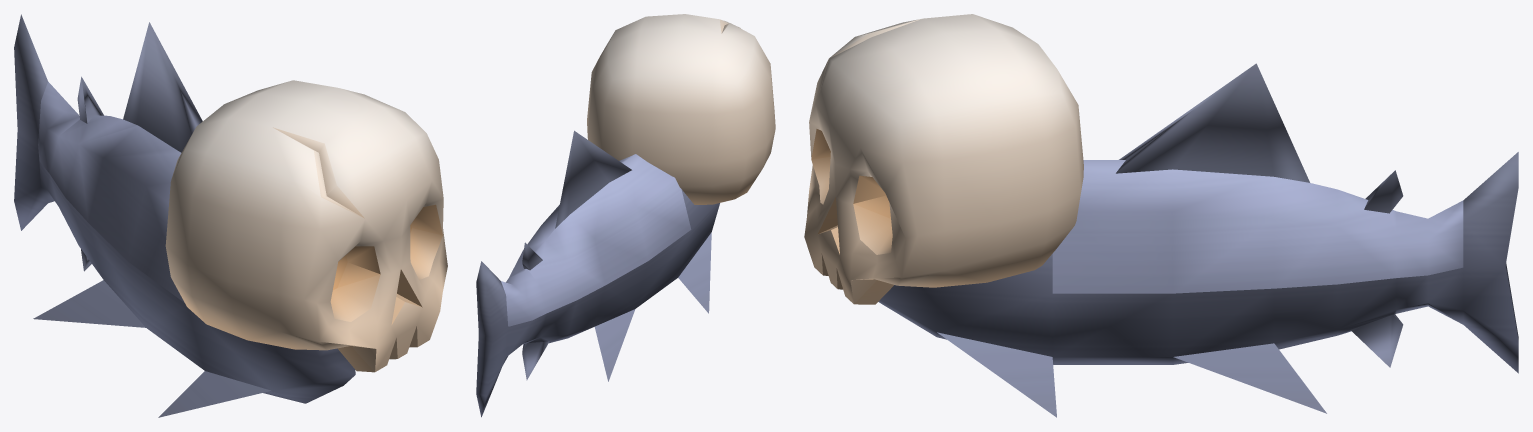
File: fish_skull.glb
3 views of the same model, side by side, from view 1: azimuth 30°, elevation 25°; view 2: azimuth 150°, elevation 25°; view 3: azimuth 270°, elevation 25° (orthographic). The views are drawn at different scales.
Visible parts, largest first — view 1: skull_Cube.540, fish; view 2: fish, skull_Cube.540; view 3: fish, skull_Cube.540.
Part boxes in pixels (x1,y1,x2,y2): skull_Cube.540: [165, 80, 447, 372]; fish: [14, 14, 355, 417]; fish: [476, 130, 719, 417]; skull_Cube.540: [587, 14, 775, 204]; fish: [878, 63, 1518, 417]; skull_Cube.540: [804, 14, 1083, 304].
Size of the model in its own units: 0.2677 by 0.3551 by 0.6721.
2 materials, 2 textured.
